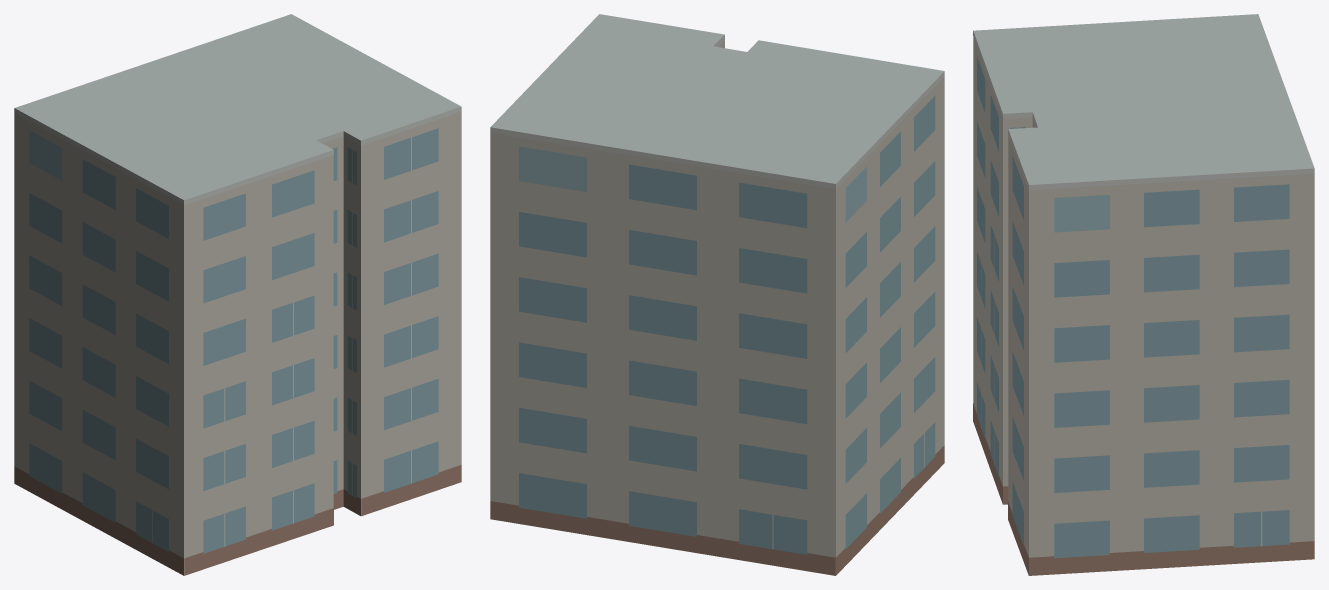
Rendered from survey-upis-32905585.glb.
3 renders of one model, left to right at view 1: azimuth 30°, elevation 25°; view 2: azimuth 150°, elevation 25°; view 3: azimuth 270°, elevation 25°, orthographic. The views are drawn at different scales.
Visible parts, largest first — view 1: survey-upis-32905585.tmp; view 2: survey-upis-32905585.tmp; view 3: survey-upis-32905585.tmp.
Boxes of the visible parts, x1,y1,x2,y2 form: survey-upis-32905585.tmp: (14,14,461,575); survey-upis-32905585.tmp: (490,14,944,575); survey-upis-32905585.tmp: (973,14,1314,575).
Bounding box in the file's own units: 17.19 × 18.3 × 14.5.
